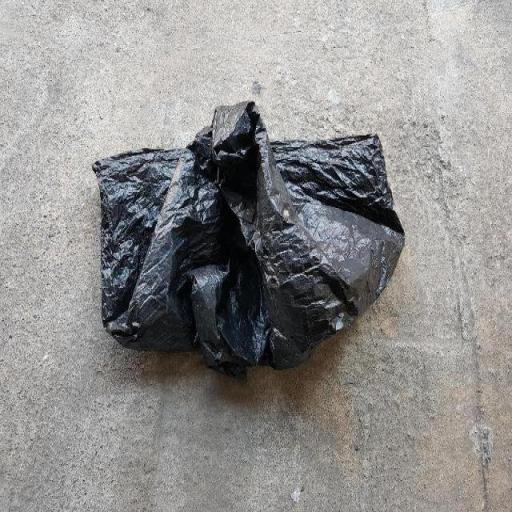plastic-bag: (90, 94, 405, 380)
